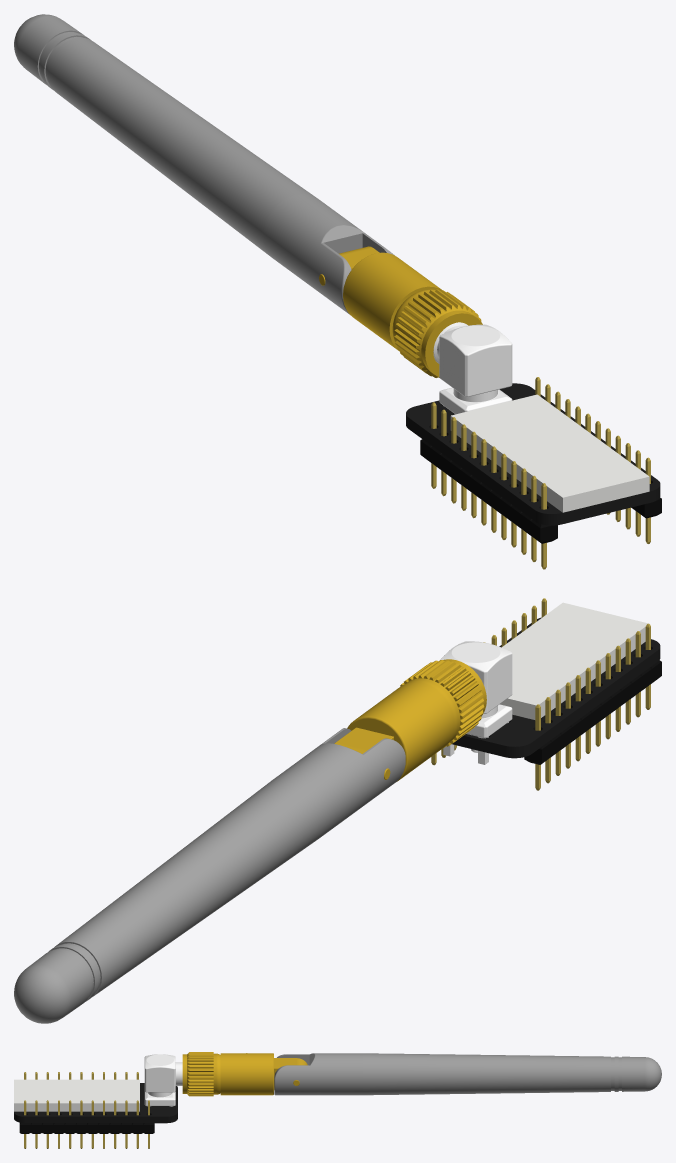
File: YUL262RTX.fbx
3 views of the same model, one above another, from view 1: azimuth 30°, elevation 25°; view 2: azimuth 150°, elevation 25°; view 3: azimuth 270°, elevation 25° (orthographic). The views are drawn at different scales.
Parts seen in each view (by area): view 1: Body1 (×6), Body2; view 2: Body1 (×6), Body2; view 3: Body1 (×6), Body2.
Part boxes in pixels (x1=…): Body1 (×6): x1=14, y1=14, x2=661, y2=569; Body2: x1=450, y1=394, x2=649, y2=512; Body1 (×6): x1=14, y1=598, x2=661, y2=1023; Body2: x1=500, y1=602, x2=649, y2=719; Body1 (×6): x1=14, y1=1052, x2=661, y2=1148; Body2: x1=14, y1=1079, x2=139, y2=1111.
Bounding box in the file's own units: 18 × 19.99 × 146.
